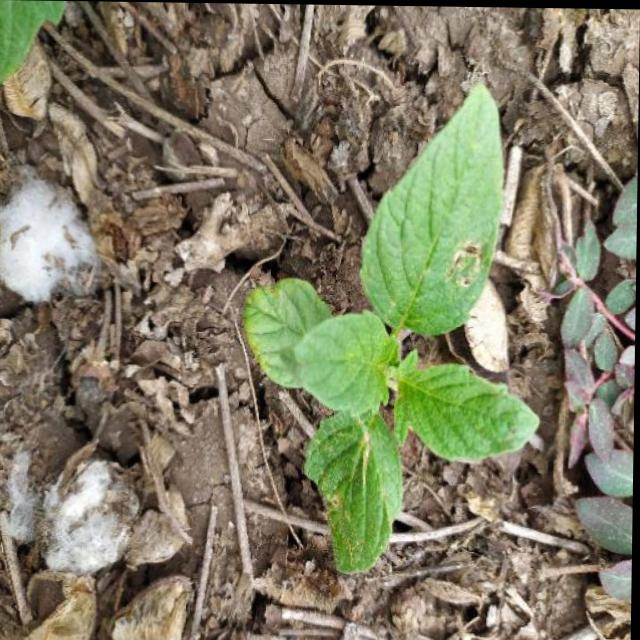crop: (230, 66, 547, 582)
